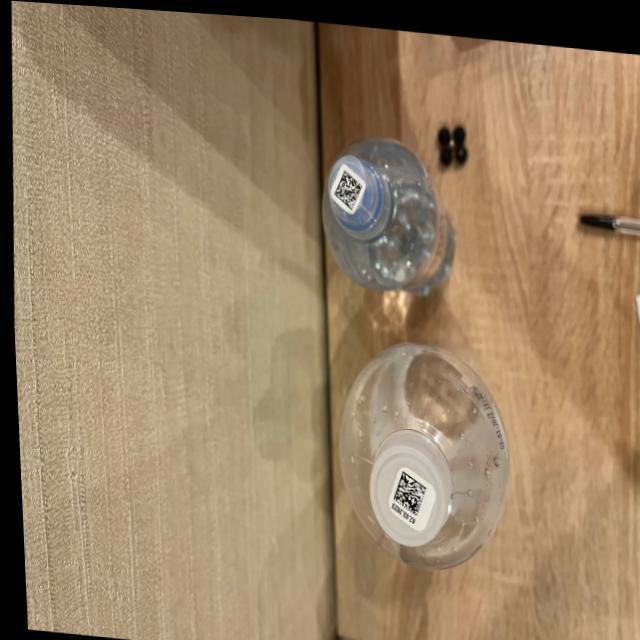datamatrix: (387, 464, 424, 511), (332, 164, 363, 206)
